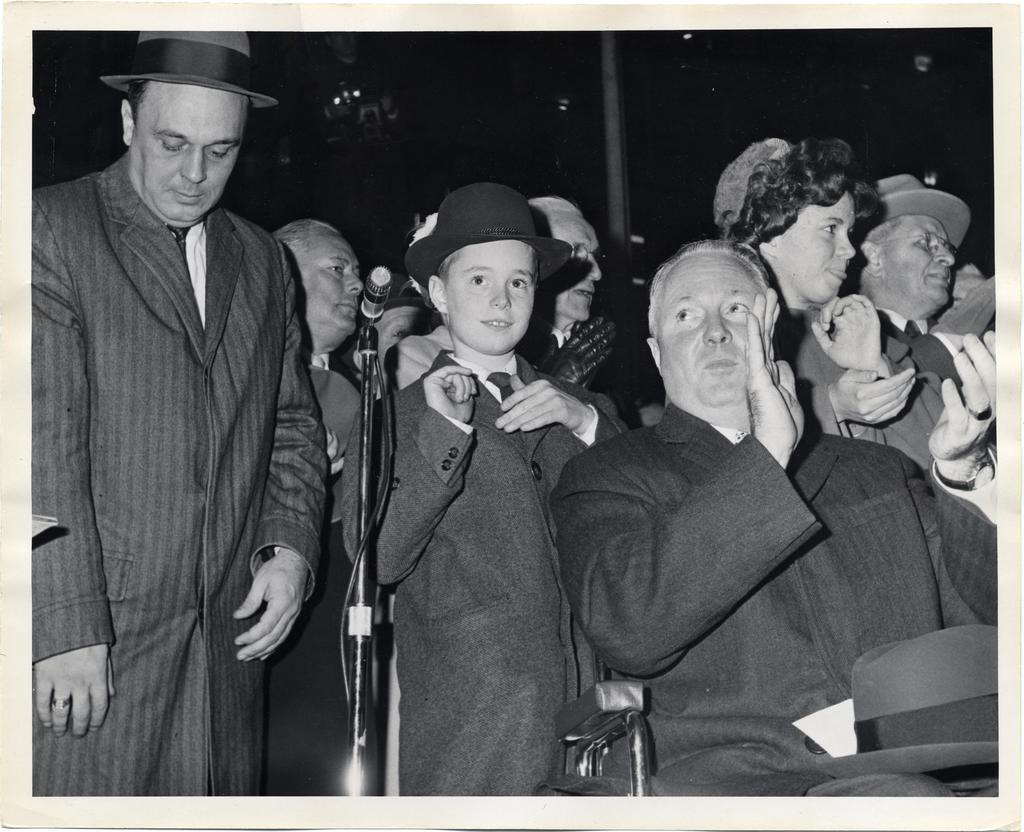Human-face: (660, 247, 764, 401), (134, 81, 239, 227), (445, 236, 534, 357), (780, 181, 855, 303), (289, 227, 365, 335), (534, 202, 598, 321), (879, 207, 958, 298)
